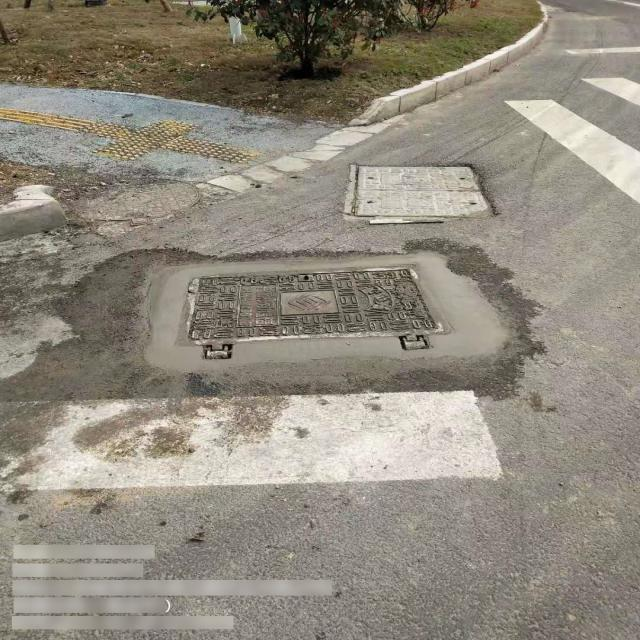Good: (171, 262, 454, 361), (342, 161, 497, 225)
